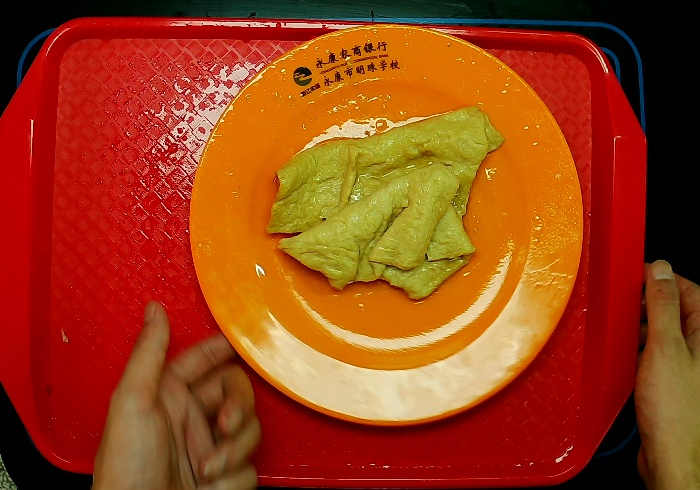YKMZ-Ju_Se_Mian_Pan: (187, 22, 584, 425)
